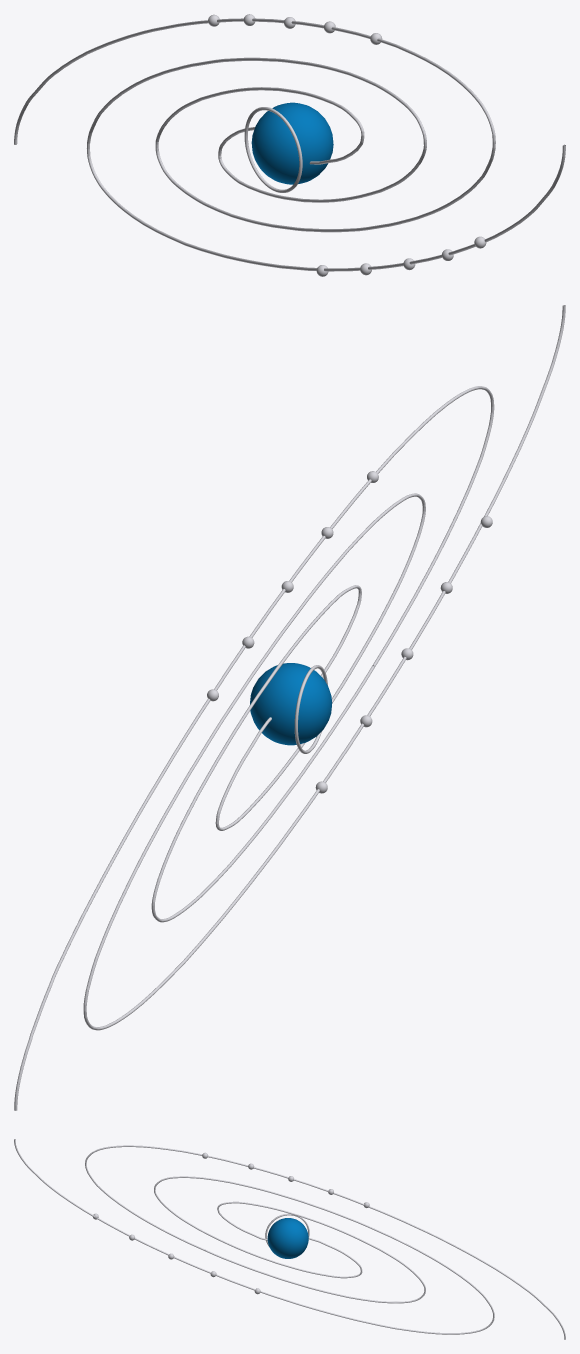
File: f23noanime.glb
3 renders of one model, top to bottom at view 1: azimuth 30°, elevation 25°; view 2: azimuth 150°, elevation 25°; view 3: azimuth 270°, elevation 25°, orthographic. The views are drawn at different scales.
Parts seen in each view (by area): view 1: spiral, center ball, center circle; view 2: spiral, center ball; view 3: spiral, center ball.
Part boxes in pixels (box(x1,y1,x2,y2)): spiral: box(14, 18, 565, 271); center ball: box(251, 102, 333, 184); center circle: box(244, 107, 302, 192); spiral: box(14, 305, 565, 1110); center ball: box(250, 663, 332, 745); spiral: box(14, 1139, 565, 1339); center ball: box(267, 1218, 308, 1258).
Bounding box in the file's own units: 0.4851 × 2.6 × 6.49.
